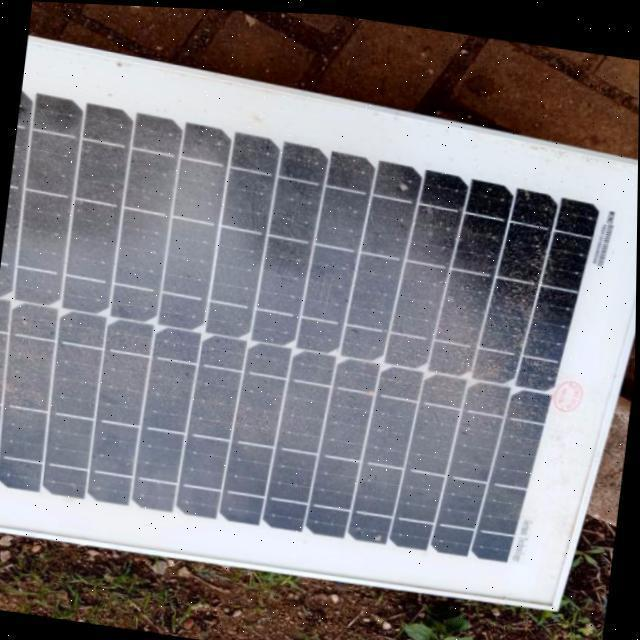Anomaly Solar Panel: (0, 67, 612, 601)
Surface Contaminant: (0, 88, 581, 583)
